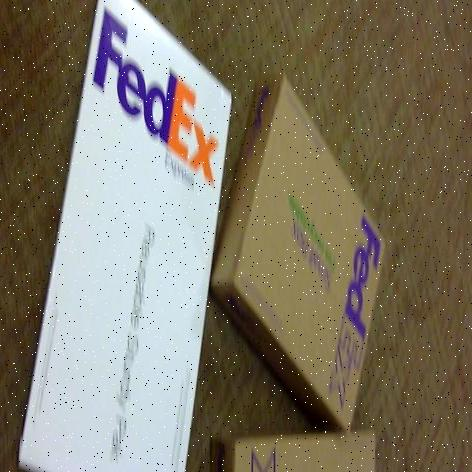Amazon: (55, 1, 202, 472), (228, 102, 392, 431)
